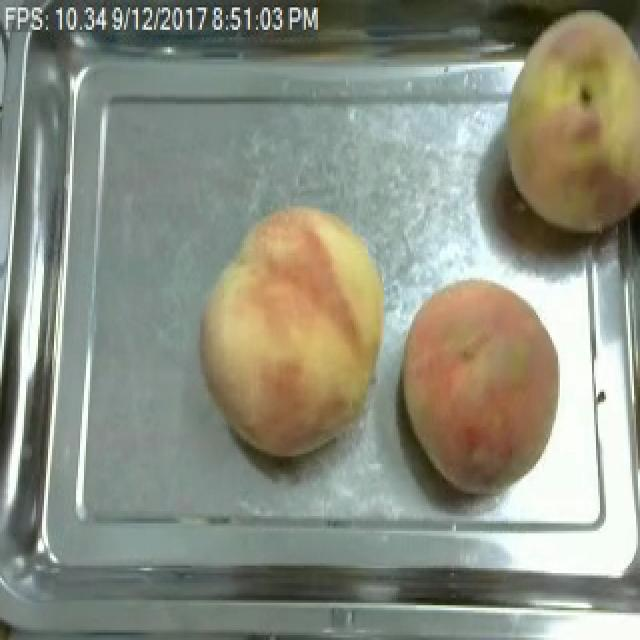Fruit: (192, 196, 394, 464), (392, 273, 570, 501), (492, 0, 640, 246)
